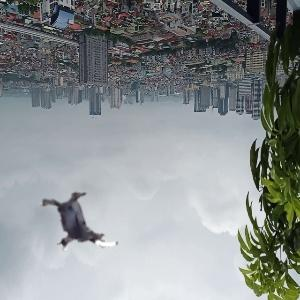drone: (35, 179, 122, 266)
